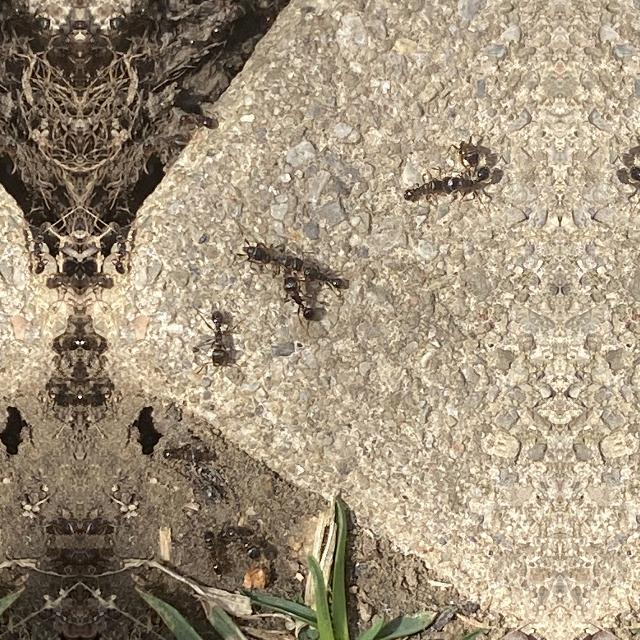Tetramorium: (280, 268, 322, 334), (198, 306, 234, 378), (445, 159, 497, 199), (402, 164, 444, 212), (221, 519, 269, 561), (152, 426, 202, 464), (254, 240, 318, 268), (304, 260, 352, 296), (198, 518, 228, 574), (229, 228, 265, 272), (446, 127, 482, 167), (115, 229, 133, 287), (27, 229, 45, 287), (622, 159, 640, 199)
